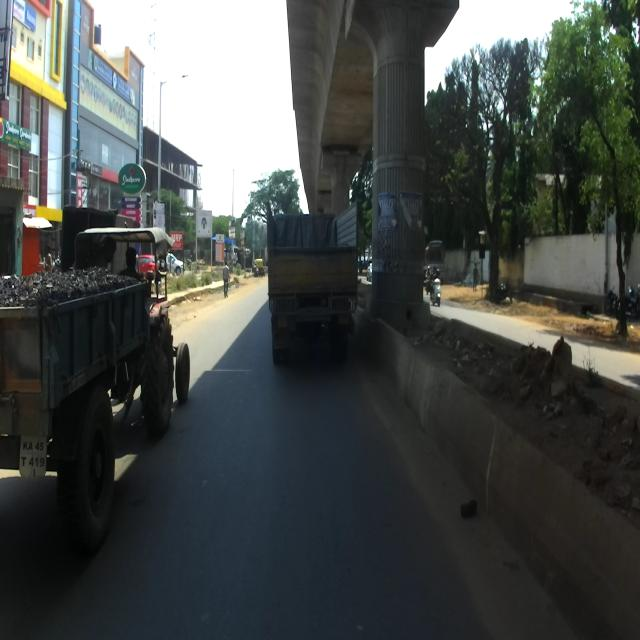truck ahead at: (9, 216, 192, 551), (266, 200, 362, 363)
